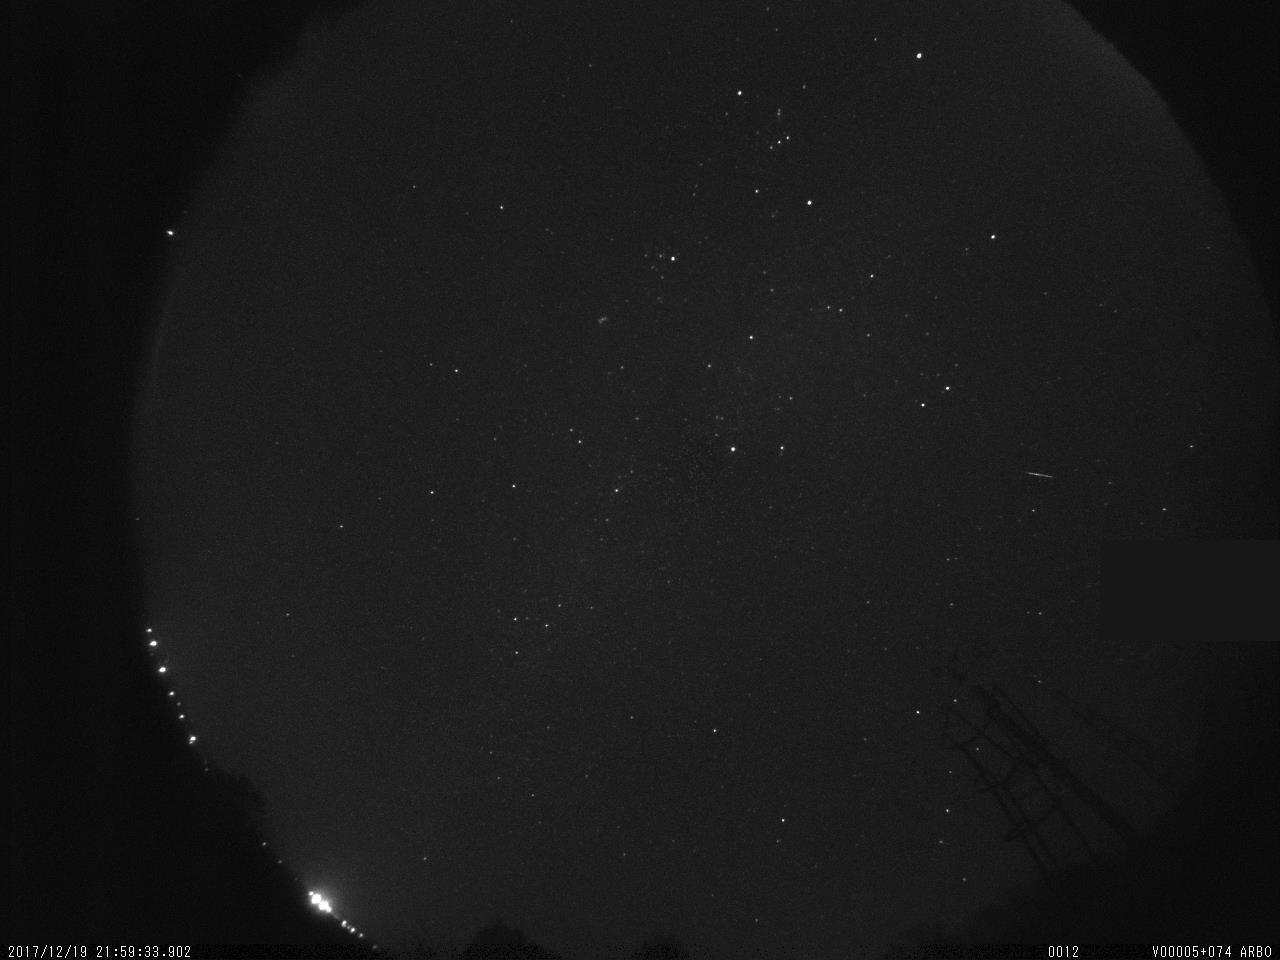meteor: (1012, 468, 1065, 482)
